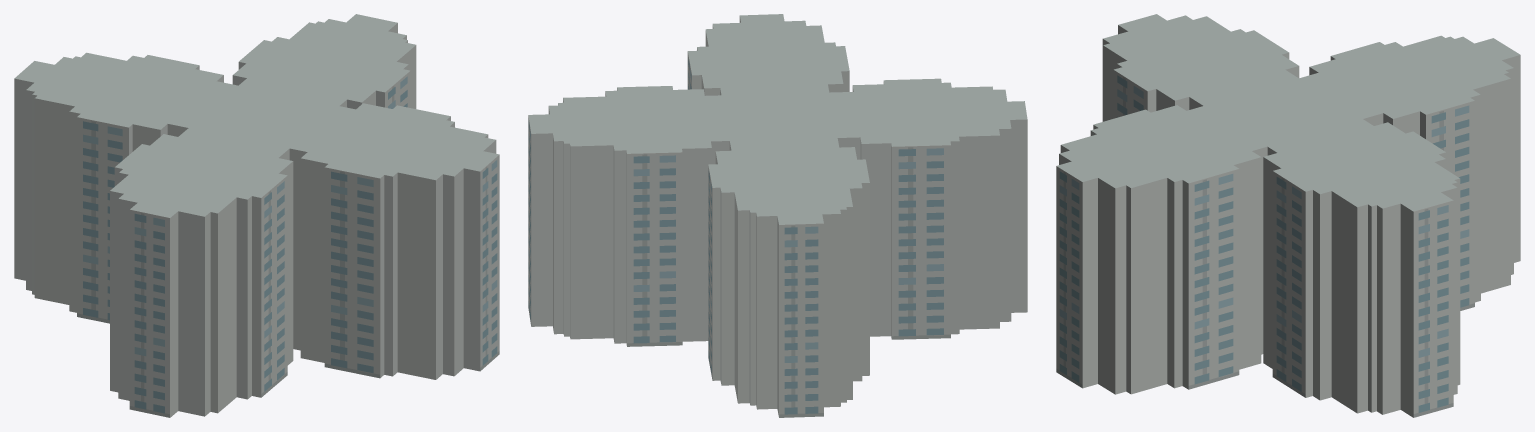
Rendered from residential-1c5611ff-d17a-409b-b064-a3c1167360bf.glb.
3 renders of one model, left to right at view 1: azimuth 30°, elevation 25°; view 2: azimuth 150°, elevation 25°; view 3: azimuth 270°, elevation 25°, orthographic. The views are drawn at different scales.
Visible parts, largest first — view 1: residential-1c5611ff-d17a-409b-b064-a3c1167360bf.tmp; view 2: residential-1c5611ff-d17a-409b-b064-a3c1167360bf.tmp; view 3: residential-1c5611ff-d17a-409b-b064-a3c1167360bf.tmp.
Part boxes in pixels (x1,y1,x2,y2): residential-1c5611ff-d17a-409b-b064-a3c1167360bf.tmp: [14, 14, 499, 417]; residential-1c5611ff-d17a-409b-b064-a3c1167360bf.tmp: [528, 14, 1027, 417]; residential-1c5611ff-d17a-409b-b064-a3c1167360bf.tmp: [1056, 14, 1520, 417].
Size of the model in its own units: 94.58 by 46 by 93.89.
